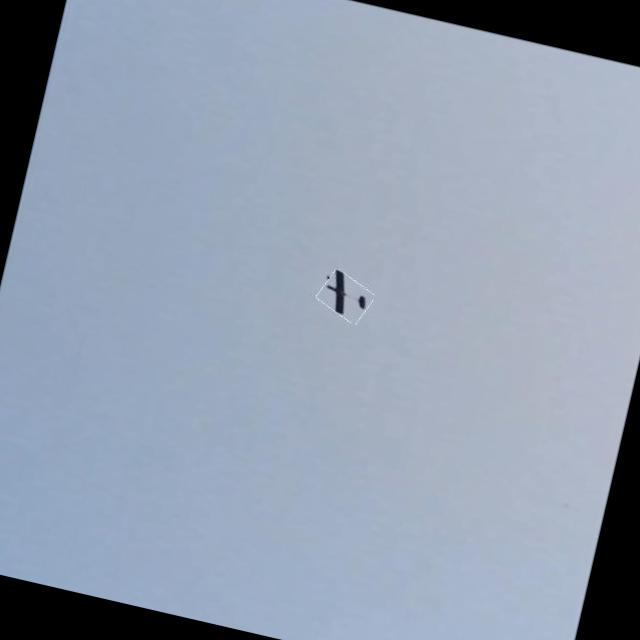UAV: (303, 246, 392, 326)
